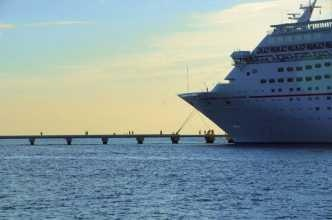youlun: (176, 11, 332, 142)
